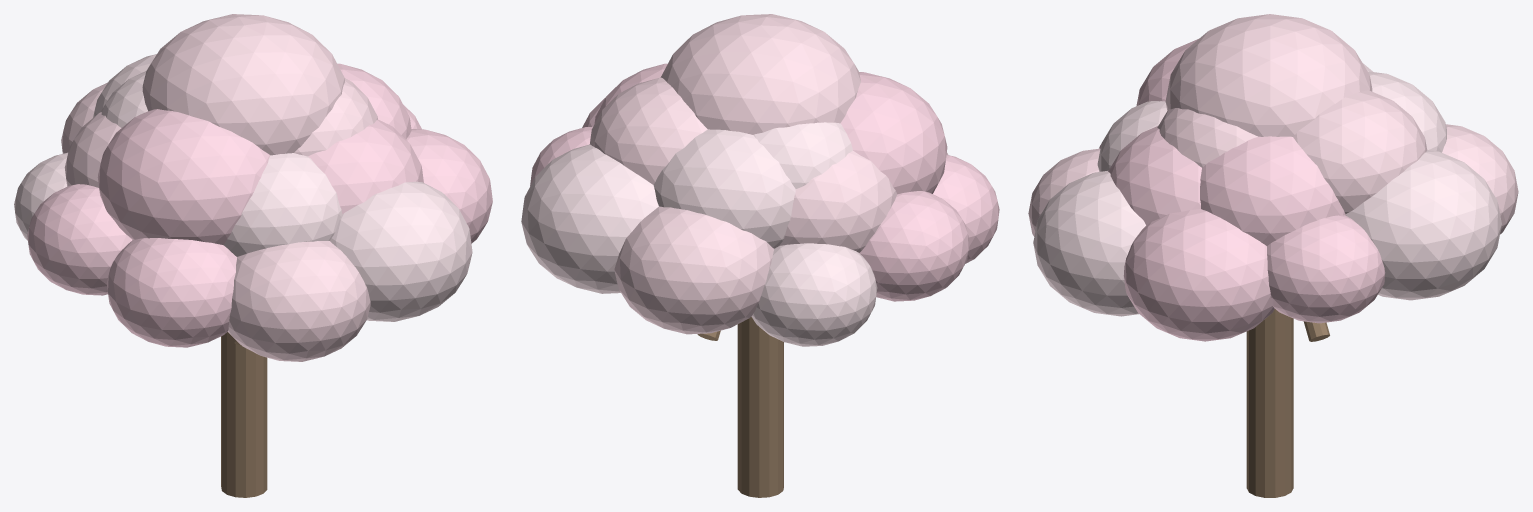
File: sakura.glb
3 renders of one model, left to right at view 1: azimuth 30°, elevation 25°; view 2: azimuth 150°, elevation 25°; view 3: azimuth 270°, elevation 25°, orthographic.
Visible parts, largest first — view 1: Blossom_16, Blossom_4, Blossom_13, Blossom_14, Blossom_12, Blossom_11, Blossom_5, Trunk, Blossom_6, Blossom_15, Blossom_17, Blossom_3 (+5 smaller); view 2: Blossom_16, Blossom_9, Blossom_8, Blossom_2, Blossom_10, Blossom_11, Blossom_4, Trunk, Blossom_3, Blossom_1, Blossom_18, Blossom_12 (+2 smaller); view 3: Blossom_16, Blossom_15, Blossom_8, Blossom_14, Blossom_0, Blossom_7, Blossom_1, Trunk, Blossom_6, Blossom_9, Blossom_17, Blossom_2 (+3 smaller).
Boxes of the visible parts, bbox=[...] form: Blossom_16: bbox=[142, 14, 344, 155]; Blossom_4: bbox=[97, 109, 269, 245]; Blossom_13: bbox=[228, 241, 370, 361]; Blossom_14: bbox=[330, 181, 472, 321]; Blossom_12: bbox=[106, 238, 236, 347]; Blossom_11: bbox=[27, 184, 132, 295]; Blossom_5: bbox=[224, 153, 342, 256]; Trunk: bbox=[221, 332, 267, 497]; Blossom_6: bbox=[308, 119, 423, 213]; Blossom_15: bbox=[406, 129, 492, 243]; Blossom_17: bbox=[294, 78, 377, 156]; Blossom_3: bbox=[64, 112, 121, 187]; Blossom_16: bbox=[660, 14, 860, 134]; Blossom_9: bbox=[614, 206, 773, 334]; Blossom_8: bbox=[521, 144, 658, 293]; Blossom_2: bbox=[653, 129, 795, 248]; Blossom_10: bbox=[751, 243, 877, 346]; Blossom_11: bbox=[859, 191, 969, 301]; Blossom_4: bbox=[840, 72, 947, 194]; Trunk: bbox=[737, 316, 783, 497]; Blossom_3: bbox=[779, 151, 897, 252]; Blossom_1: bbox=[589, 77, 707, 184]; Blossom_18: bbox=[753, 122, 852, 188]; Blossom_12: bbox=[933, 155, 999, 263]; Blossom_16: bbox=[1165, 14, 1372, 136]; Blossom_15: bbox=[1123, 209, 1274, 341]; Blossom_8: bbox=[1345, 150, 1501, 300]; Blossom_14: bbox=[1033, 171, 1145, 316]; Blossom_0: bbox=[1200, 136, 1345, 245]; Blossom_7: bbox=[1267, 215, 1385, 323]; Blossom_1: bbox=[1293, 90, 1427, 213]; Trunk: bbox=[1246, 309, 1293, 497]; Blossom_6: bbox=[1108, 126, 1201, 225]; Blossom_9: bbox=[1442, 124, 1518, 234]; Blossom_17: bbox=[1157, 108, 1257, 167]; Blossom_2: bbox=[1368, 71, 1446, 152].
Size of the model in its own units: 5.65 by 6.1 by 5.86.
